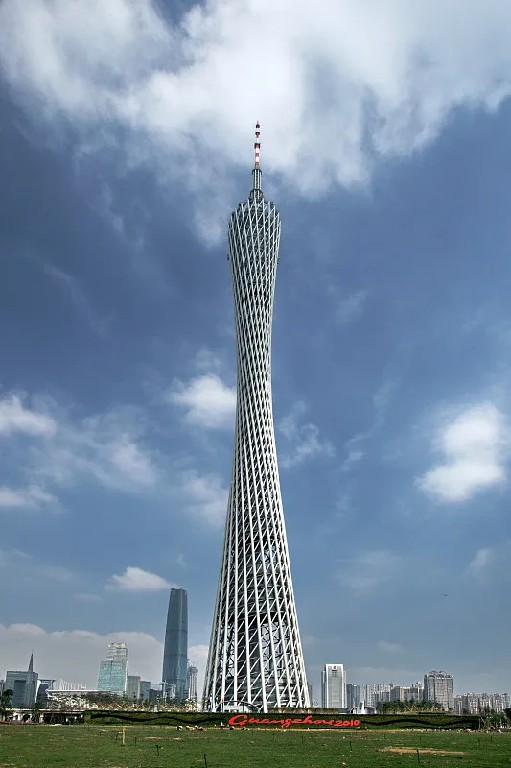Canton: (208, 117, 309, 710)
